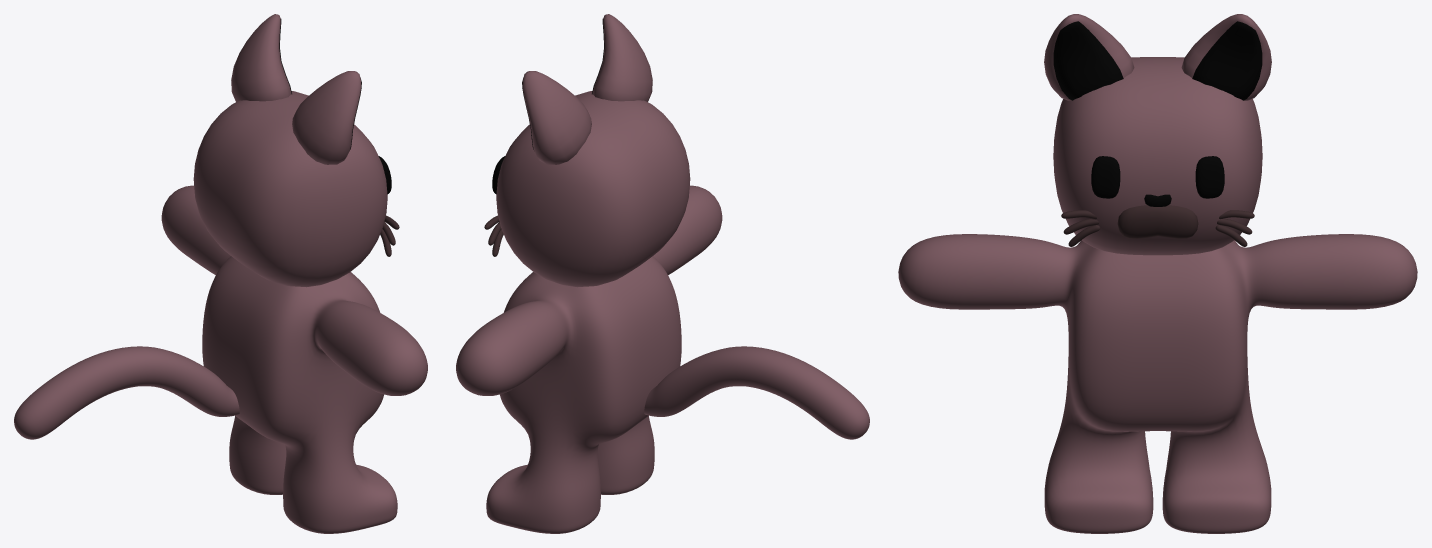
The model's file is GatoRaro.glb.
The picture shows the model from 3 angles, left to right: view 1: azimuth 30°, elevation 25°; view 2: azimuth 150°, elevation 25°; view 3: azimuth 270°, elevation 25°; orthographic projection. The views are drawn at different scales.
Parts seen in each view (by area): view 1: cuerpo, cabeza, Cube, orejas; view 2: cuerpo, cabeza, Cube, orejas; view 3: cuerpo, cabeza, orejas.001, orejas, boca, ojos.
Boxes of the visible parts, left/top/right/bottom form: cuerpo: left=161, top=185, right=427, bottom=533; cabeza: left=193, top=91, right=387, bottom=287; Cube: left=14, top=346, right=239, bottom=439; orejas: left=231, top=14, right=361, bottom=164; cuerpo: left=456, top=185, right=722, bottom=533; cabeza: left=496, top=91, right=690, bottom=287; Cube: left=644, top=346, right=869, bottom=439; orejas: left=522, top=14, right=652, bottom=164; cuerpo: left=898, top=234, right=1417, bottom=533; cabeza: left=1053, top=57, right=1262, bottom=255; orejas.001: left=1053, top=21, right=1262, bottom=100; orejas: left=1044, top=14, right=1271, bottom=100; boca: left=1117, top=205, right=1198, bottom=238; ojos: left=1091, top=156, right=1224, bottom=198.
Size of the model in its own units: 3.12 by 3.84 by 3.61.
